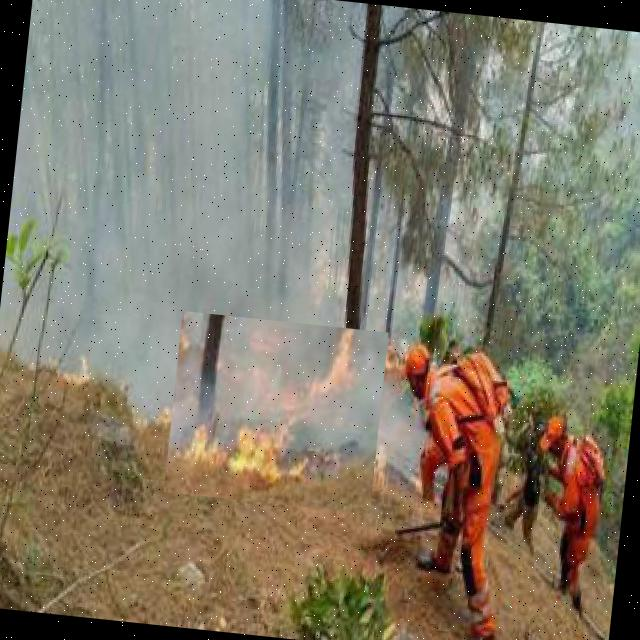fire: (163, 311, 388, 514)
